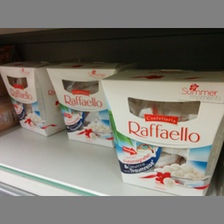candy: (99, 68, 224, 195), (46, 61, 118, 150), (1, 60, 68, 140)
